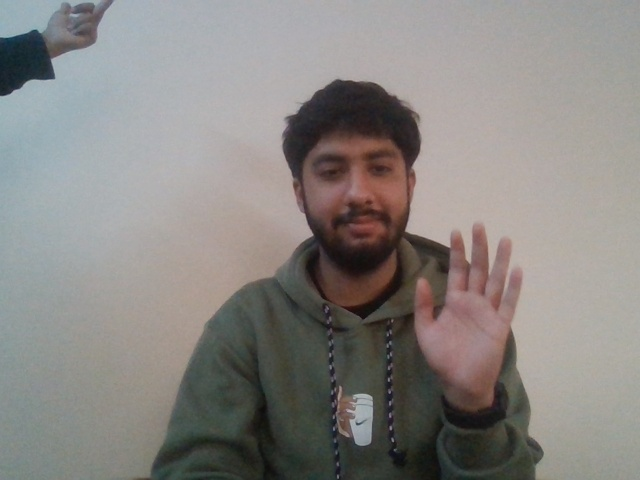Hello: (402, 224, 534, 389)
